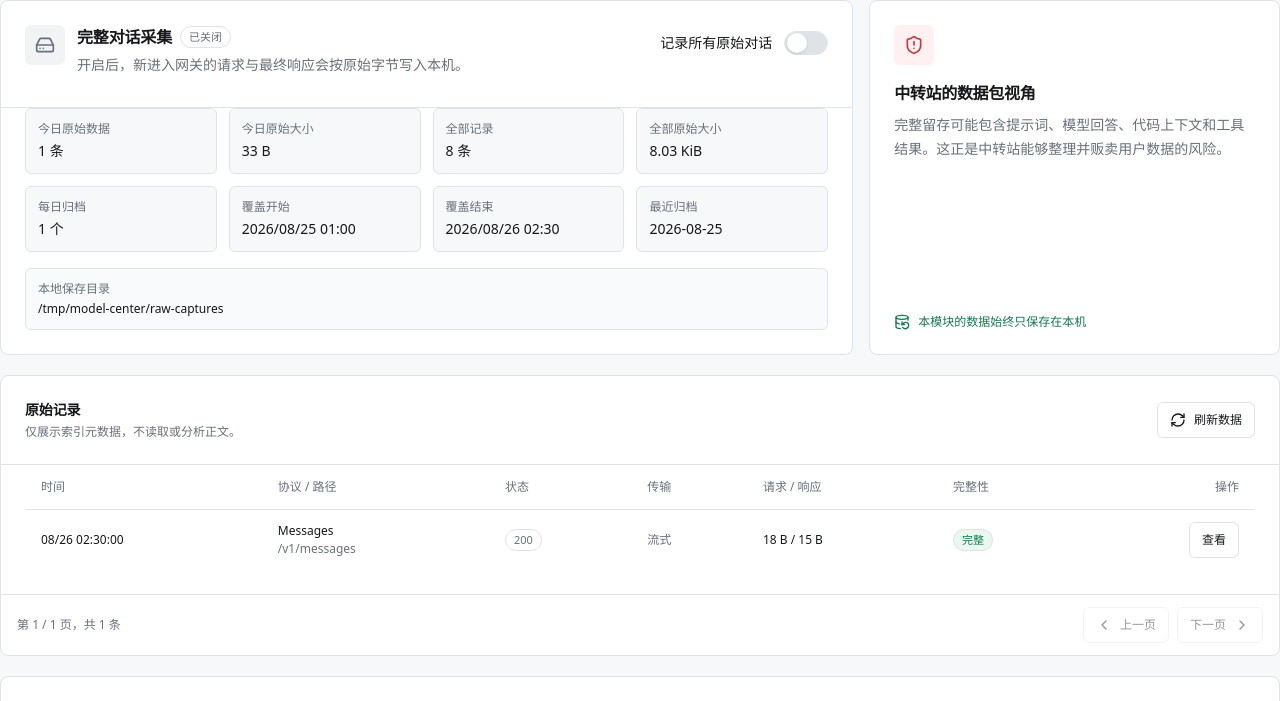
RawDataClient › uses fresh text contentType from record detail instead of stale list metadata
The width and height of the screenshot is (1280, 701).
Click the button "查看".
click(1214, 540)  # box [1189, 522, 1239, 558]
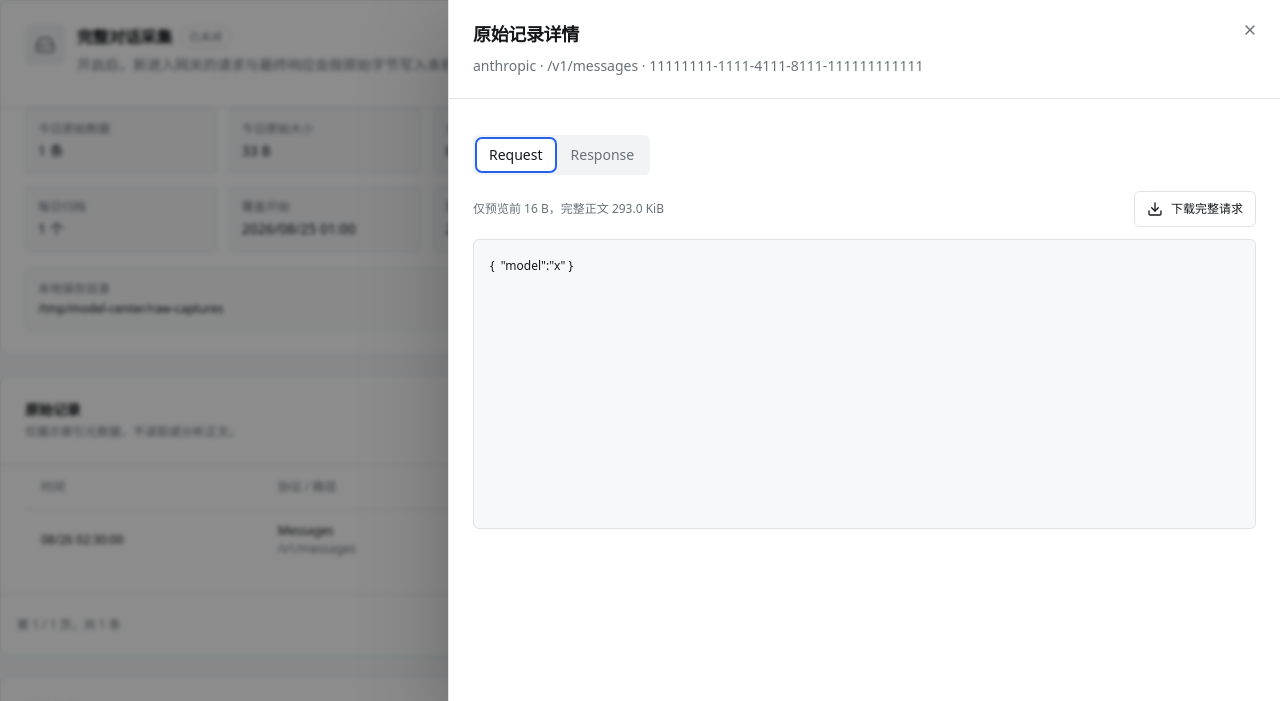
Click the tab "Response".
click(602, 155)  # box [558, 139, 646, 171]
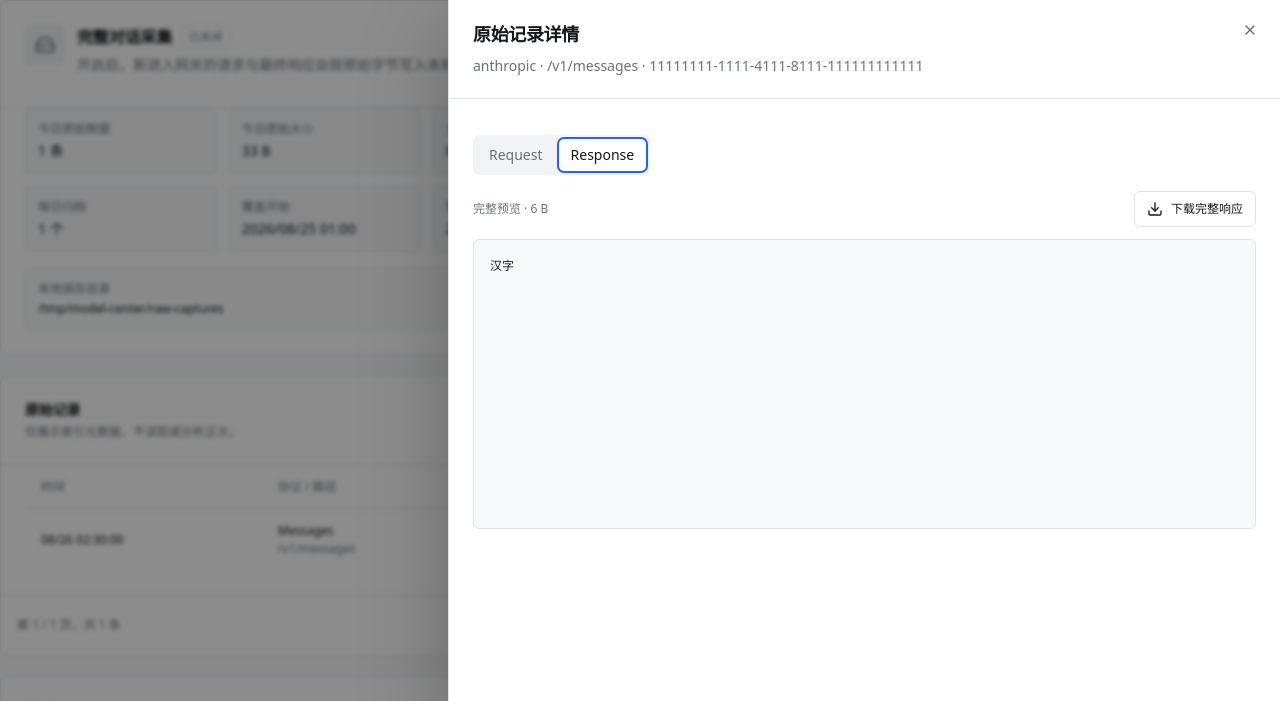
Check: the text "汉字" is shown, box [490, 257, 514, 274]
Check: the text "完整预览 · 6 B" is shown, box [473, 201, 548, 217]
